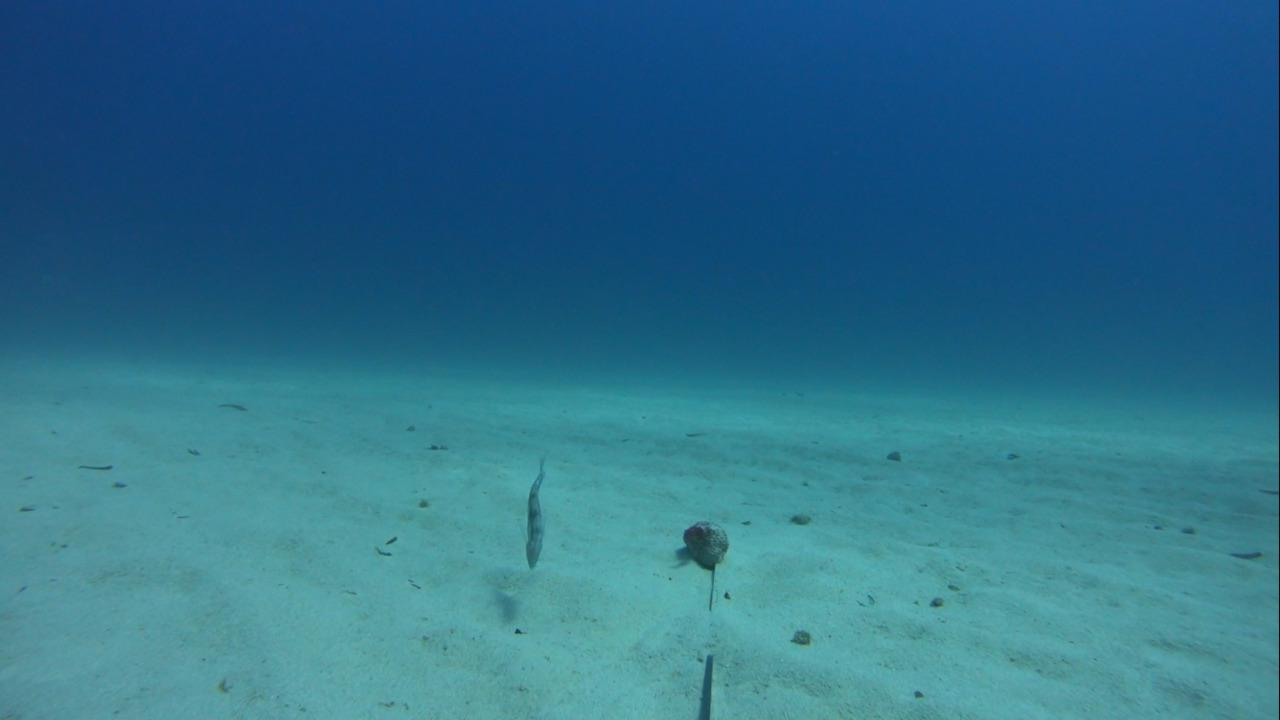raor: (517, 454, 555, 569)
